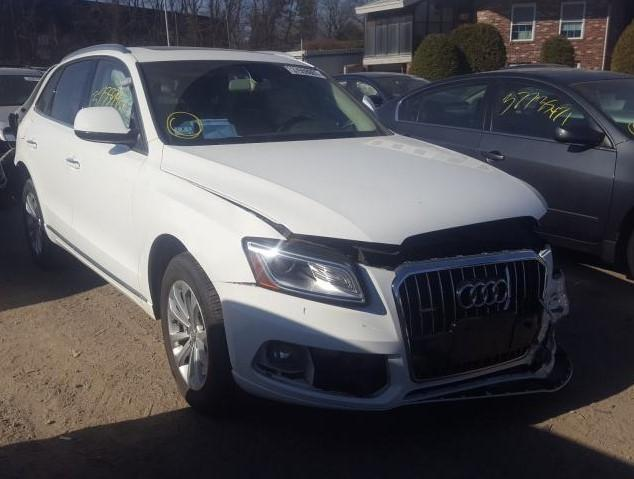Back-door: (14, 55, 94, 234)
Back-wheel: (22, 178, 67, 271)
Back-window: (37, 60, 93, 124)
Fender: (131, 161, 286, 304)
Front-bumper: (212, 246, 572, 411)
Front-door: (60, 55, 149, 295)
Front-wheel: (160, 251, 247, 418)
Front-window: (86, 58, 134, 128)
Grille: (392, 250, 547, 378)
Headlight: (243, 238, 371, 306)
Hood: (160, 132, 548, 245)
Mirror: (74, 105, 137, 147), (361, 94, 376, 112)
Rocker-panel: (44, 224, 156, 320)
Roof: (58, 44, 315, 67)
Trunk: (16, 64, 56, 126)
Windshield: (135, 60, 394, 146)
